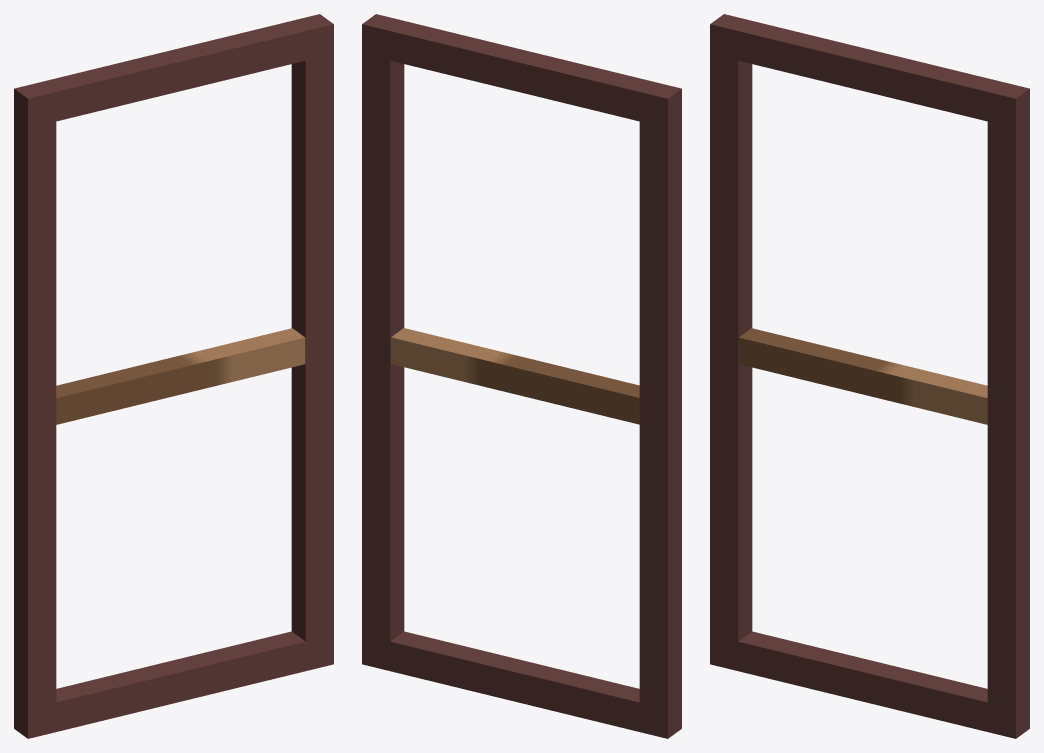
Rendered from DBK_WinSmall_Wood_Full.fbx.
The picture shows the model from 3 angles, left to right: view 1: azimuth 30°, elevation 25°; view 2: azimuth 150°, elevation 25°; view 3: azimuth 330°, elevation 25°; orthographic projection.
Visible parts, largest first — view 1: DBK_WinSmall_Wood_Full; view 2: DBK_WinSmall_Wood_Full; view 3: DBK_WinSmall_Wood_Full.
Part boxes in pixels (box(x1,y1,x2,y2)): DBK_WinSmall_Wood_Full: box(14, 14, 333, 738); DBK_WinSmall_Wood_Full: box(362, 14, 681, 738); DBK_WinSmall_Wood_Full: box(710, 14, 1029, 738).
Bounding box in the file's own units: 60 × 120 × 4.75.
